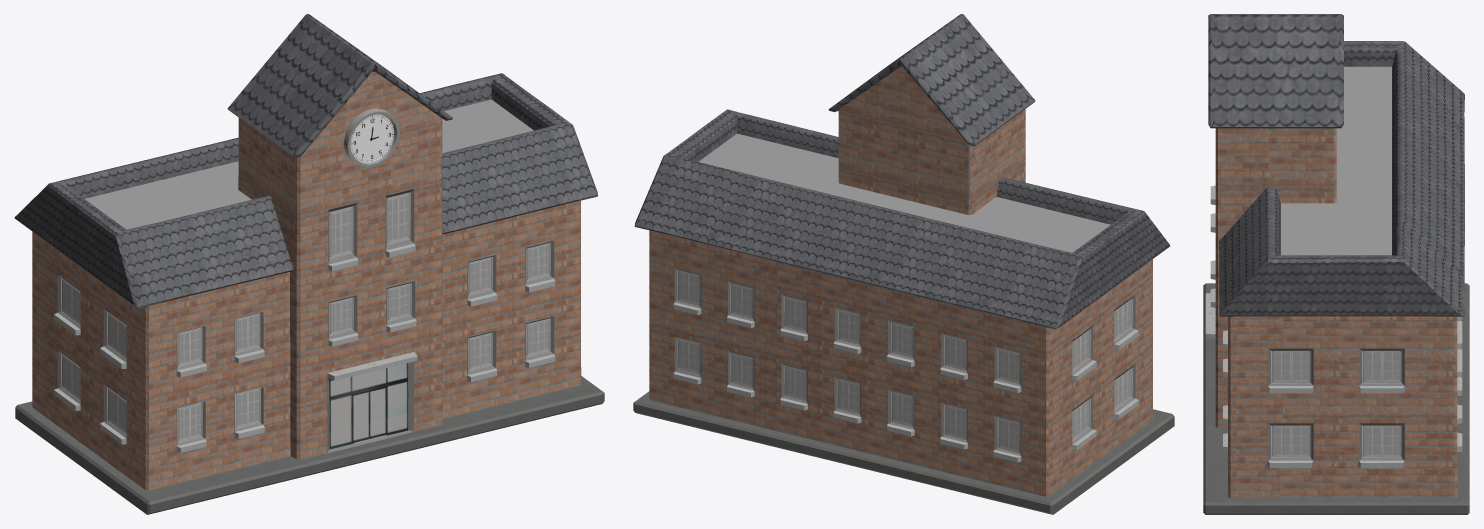
The model's file is School.fbx.
The picture shows the model from 3 angles, left to right: view 1: azimuth 30°, elevation 25°; view 2: azimuth 150°, elevation 25°; view 3: azimuth 270°, elevation 25°; orthographic projection. The views are drawn at different scales.
Visible parts, largest first — view 1: School; view 2: School; view 3: School.
Part boxes in pixels (x1,y1,x2,y2): School: [14, 14, 604, 514]; School: [633, 14, 1174, 514]; School: [1203, 14, 1469, 514].
Bounding box in the file's own units: 21.3 × 17.32 × 10.71.
Materials: 1 (1 with a texture image).
